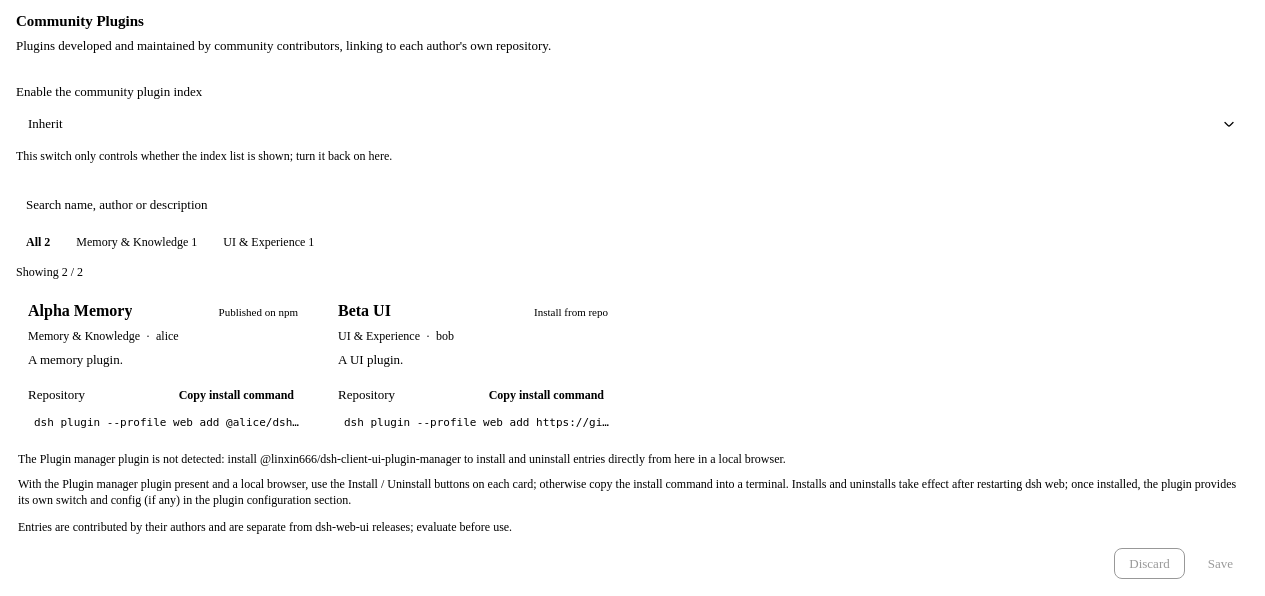
Test case: CommunityPluginsCard › filters the grid by search text across names and descriptions
Type "memory" into the search field named "search community plugins" at (632, 205), box [16,189,1248,220]
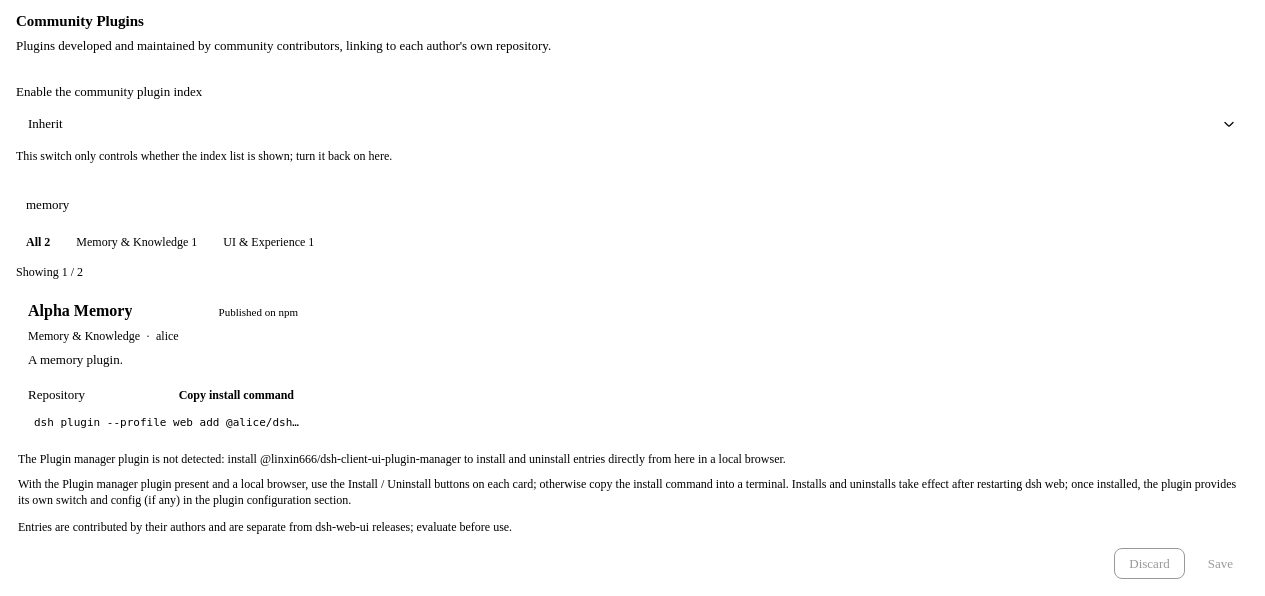
Expected: the text "Alpha Memory" is shown, [28,302,132,320]
Result: the text "Beta UI" is gone
Result: the text "Showing 1 / 2" is shown at [16,265,83,279]
